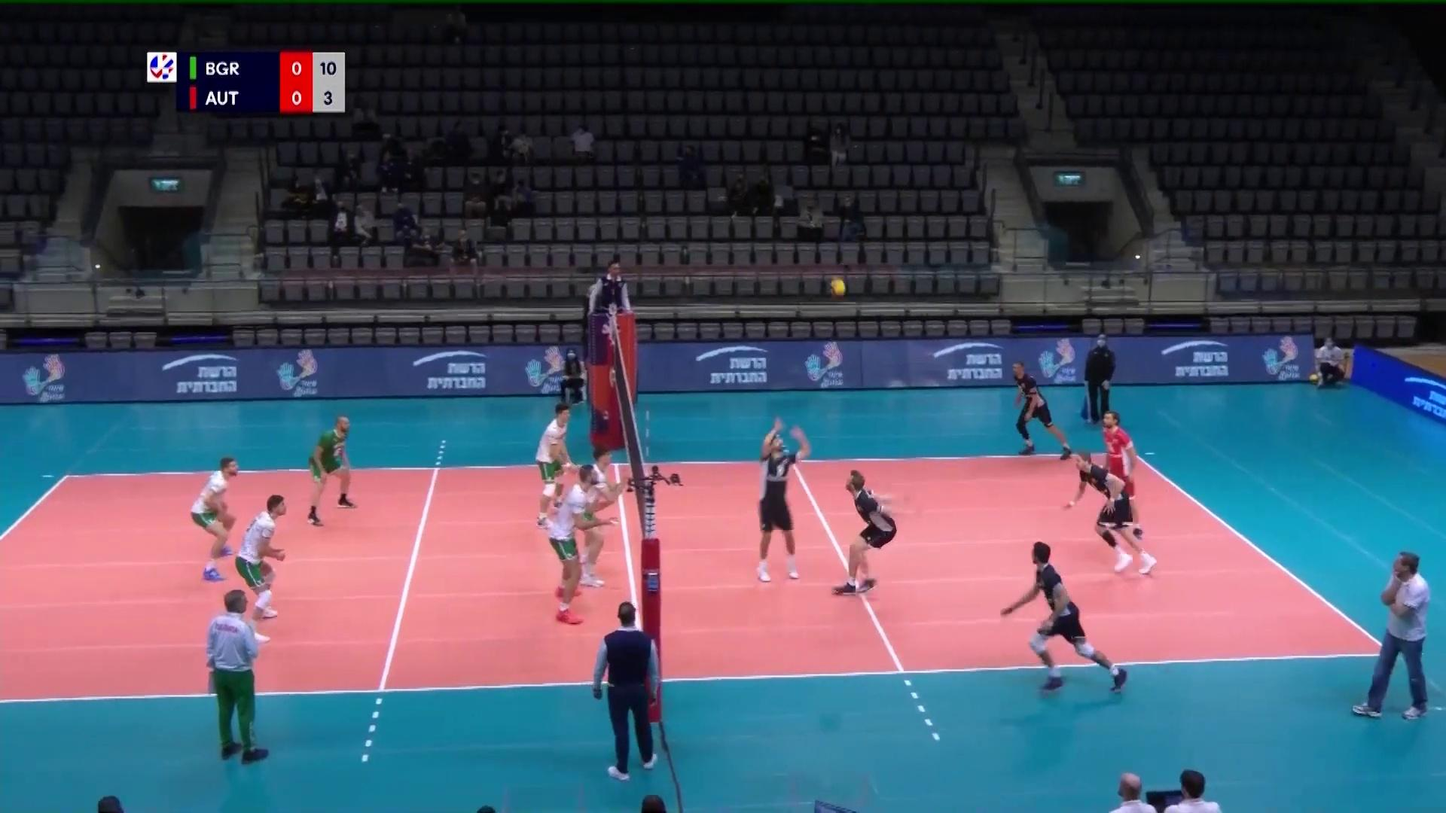ball: (827, 277, 850, 300)
